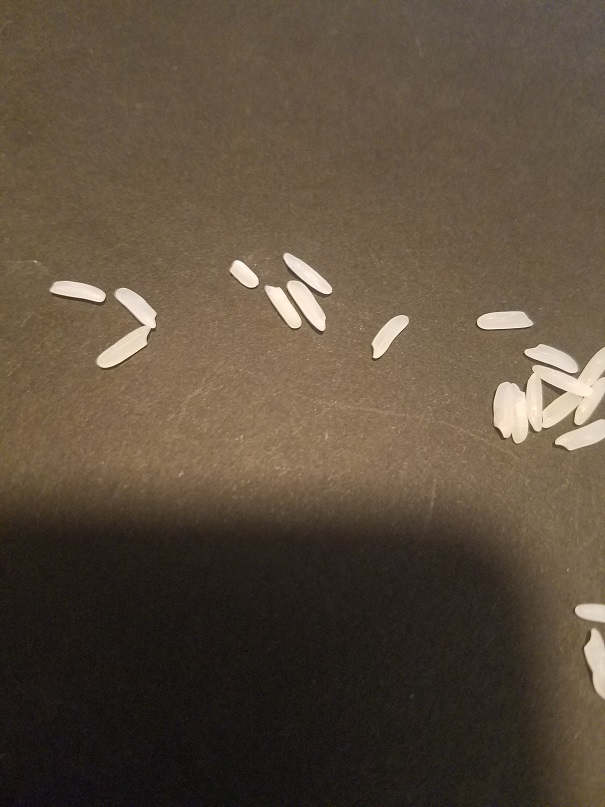egg: (93, 327, 161, 374), (285, 243, 341, 293), (286, 271, 331, 329), (368, 312, 413, 362), (114, 286, 165, 329), (537, 389, 589, 431), (261, 281, 302, 334), (526, 340, 582, 378), (531, 361, 586, 399), (45, 276, 109, 307), (555, 417, 605, 454), (580, 627, 605, 697), (488, 378, 512, 440), (475, 307, 533, 332), (567, 391, 605, 426), (574, 346, 605, 388), (514, 392, 533, 447), (571, 598, 605, 620)
